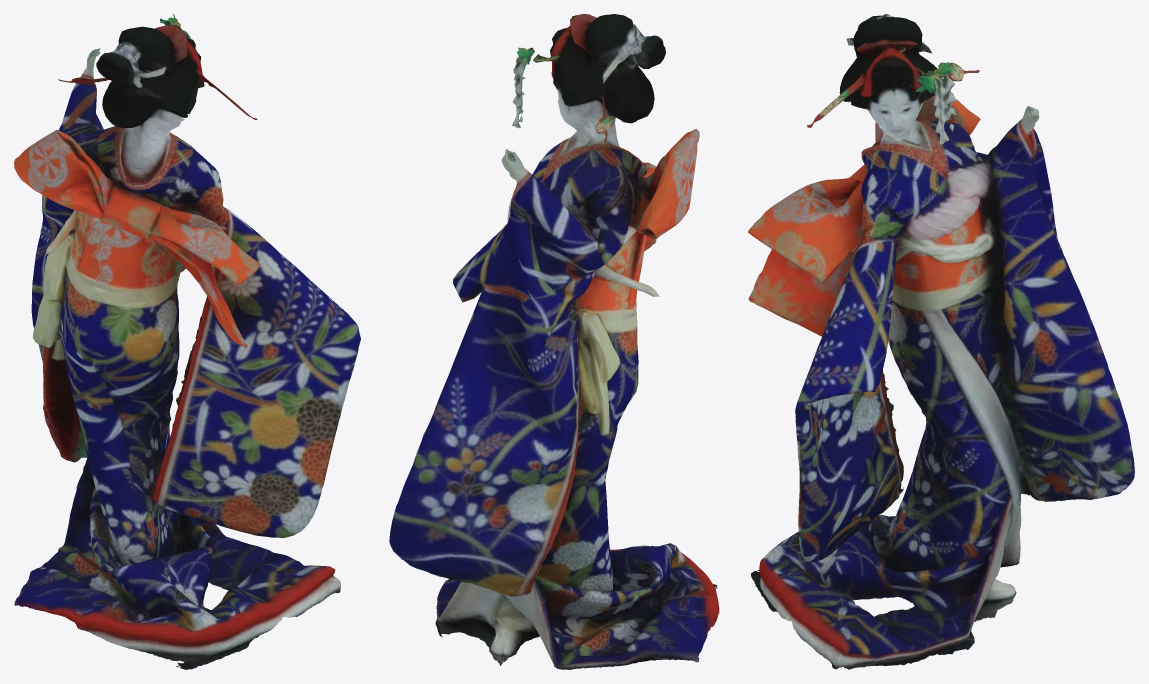
File: spirit7.glb
The picture shows the model from 3 angles, left to right: view 1: azimuth 30°, elevation 25°; view 2: azimuth 150°, elevation 25°; view 3: azimuth 270°, elevation 25°; orthographic projection. The views are drawn at different scales.
Parts seen in each view (by area): view 1: Object_3; view 2: Object_3; view 3: Object_3.
Boxes of the visible parts, x1,y1,x2,y2 form: Object_3: (14, 14, 360, 669); Object_3: (389, 14, 719, 669); Object_3: (748, 14, 1134, 669).
Size of the model in its own units: 2.27 by 4.56 by 2.78.
Materials: 1 (1 with a texture image).
